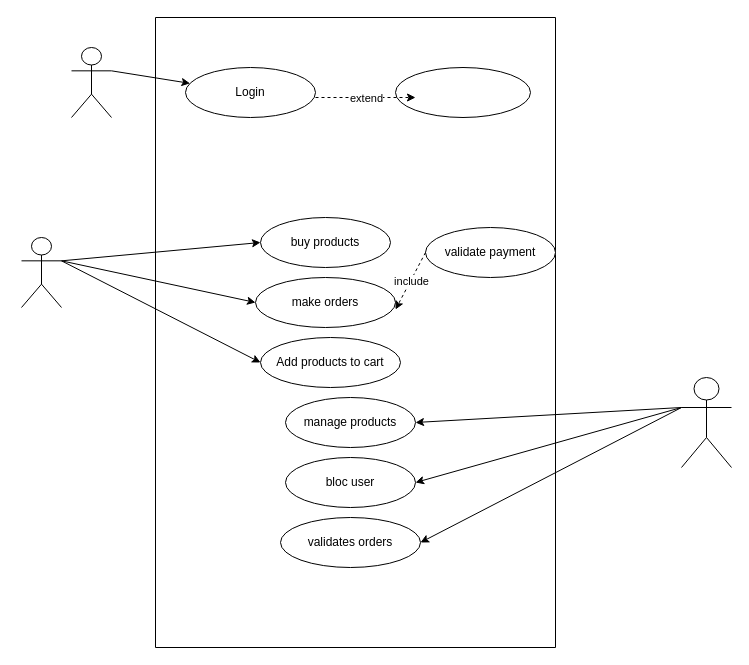
This 749x665 diagram has some shape labels left out. Here are the shapes that lost their labels. From the top down, the box of each, then its label:
(70, 46, 112, 118): visitor
(394, 66, 530, 118): Long credential
(20, 236, 62, 308): customer
(680, 376, 732, 468): Admin
